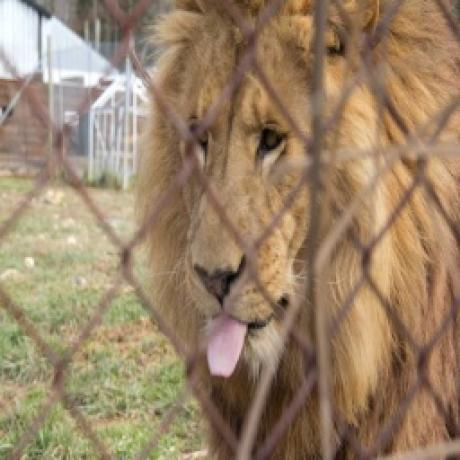Lion: (138, 0, 460, 460)
